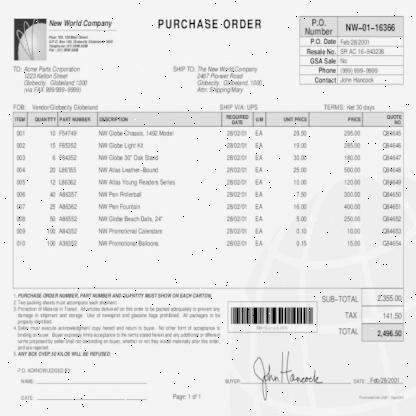Paragraph: (12, 292, 222, 357), (300, 16, 398, 84), (321, 293, 403, 339), (172, 66, 263, 95), (12, 66, 88, 95), (157, 18, 262, 30), (48, 35, 113, 53), (48, 18, 113, 29), (13, 104, 98, 112), (324, 104, 376, 112), (353, 376, 400, 384), (17, 368, 72, 373), (219, 104, 258, 110), (358, 396, 404, 401), (172, 393, 200, 401), (255, 324, 289, 330)
Table: (14, 112, 404, 250)
